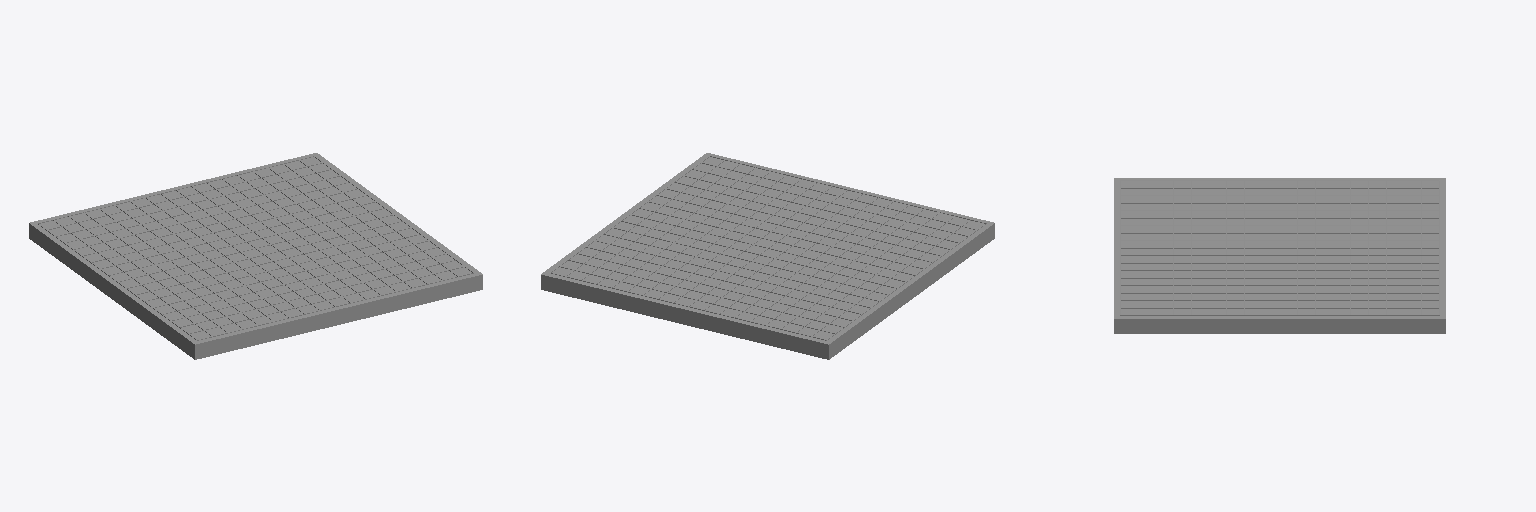
The model's file is goban.obj.
3 views of the same model, side by side, from view 1: azimuth 30°, elevation 25°; view 2: azimuth 150°, elevation 25°; view 3: azimuth 270°, elevation 25° (orthographic).
Visible parts, largest first — view 1: Plane.001, Plane; view 2: Plane.001, Plane; view 3: Plane.001, Plane.
Boxes of the visible parts, x1,y1,x2,y2 form: Plane.001: [29, 153, 482, 359]; Plane: [38, 156, 473, 340]; Plane.001: [541, 153, 994, 359]; Plane: [550, 156, 986, 340]; Plane.001: [1114, 178, 1445, 333]; Plane: [1120, 180, 1439, 315].
Bounding box in the file's own units: 10.2 × 0.5418 × 10.2.